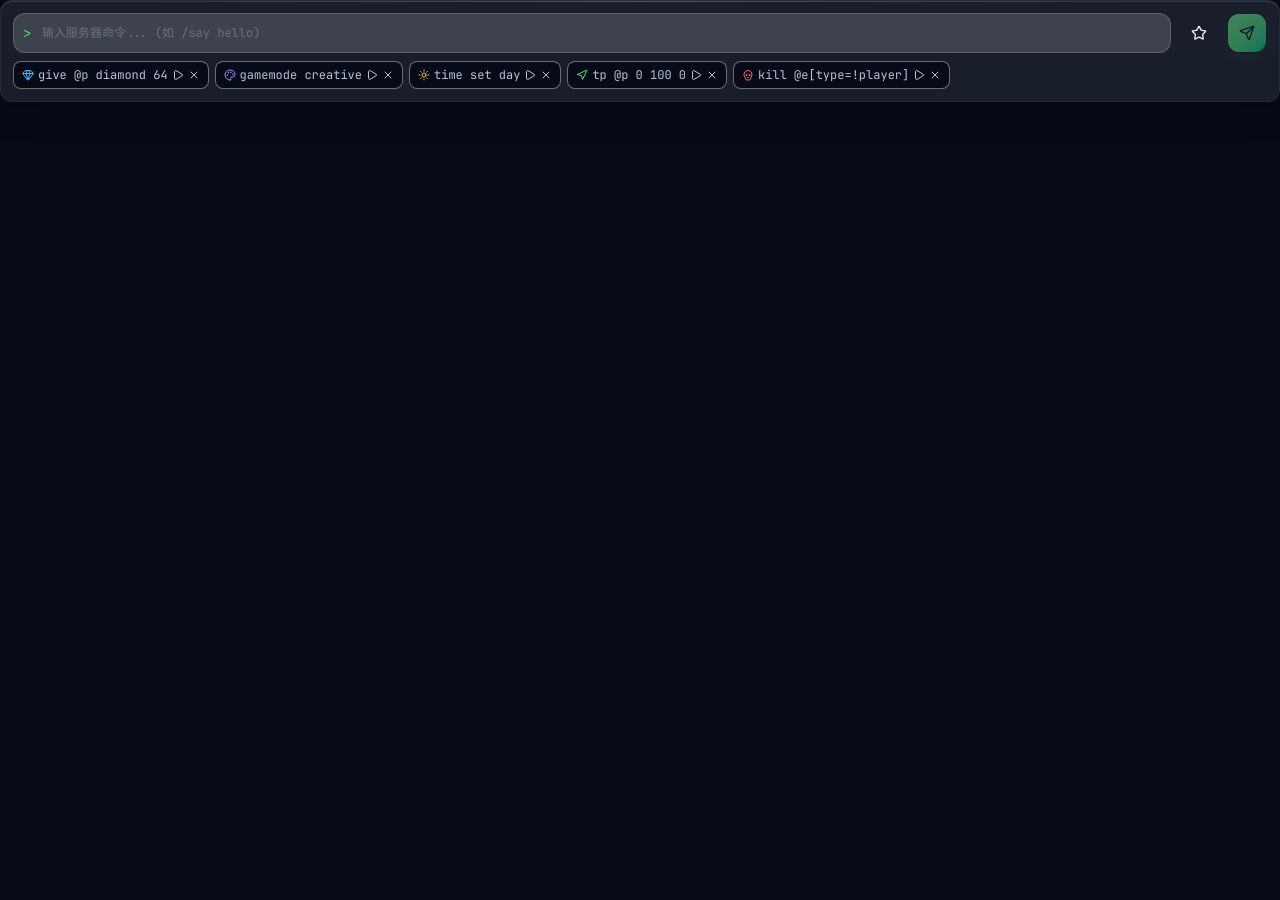
Test: CommandInput › 删除快捷指令：经二次确认后移除并写入面板偏好
Click the button named "删除 give @p diamond 64" at {"x": 194, "y": 75}, box [184,65,204,85]
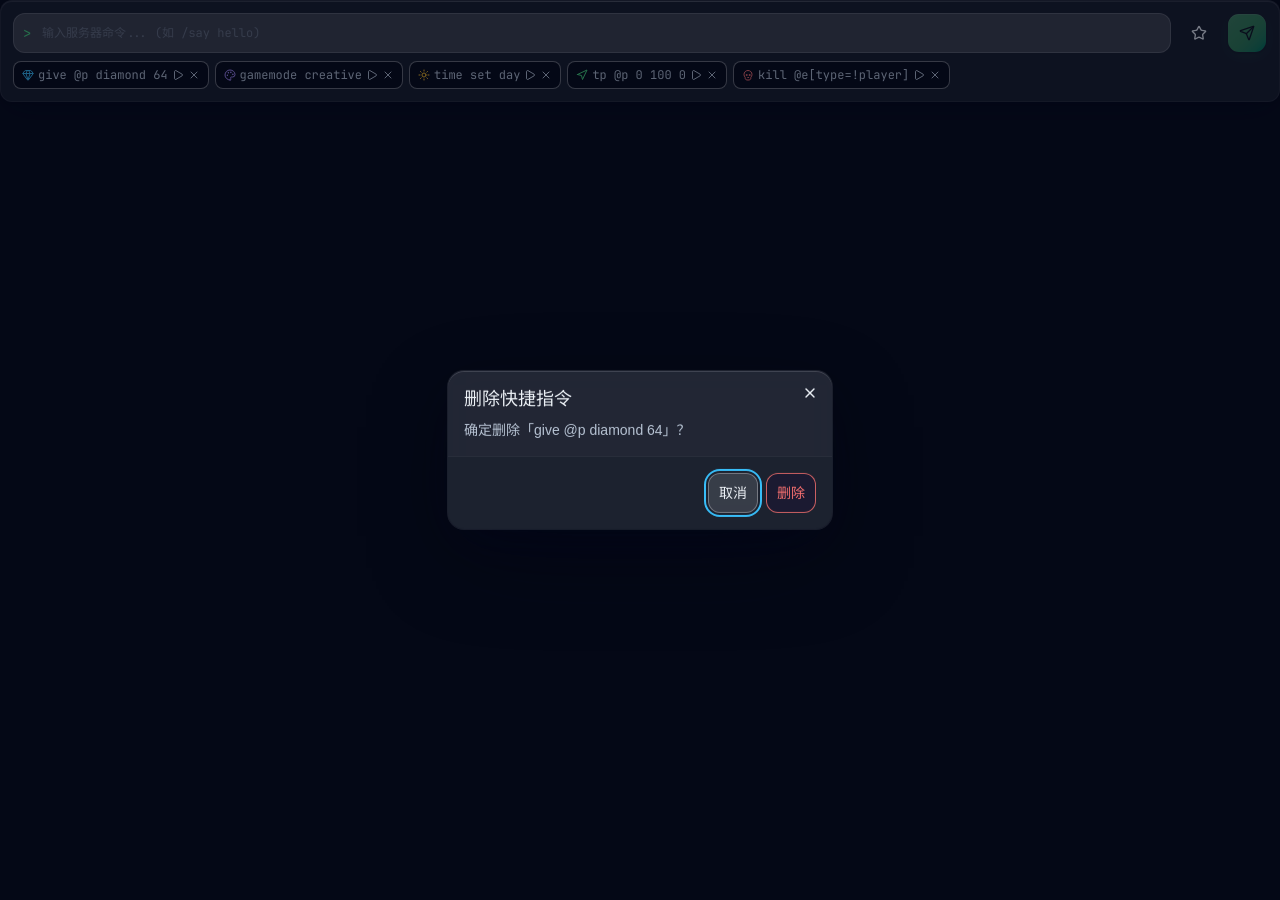
Expected: the button "give @p diamond 64" is shown, [38,66,168,84]
Click the button "删除" at {"x": 791, "y": 493}, box [766,473,816,513]
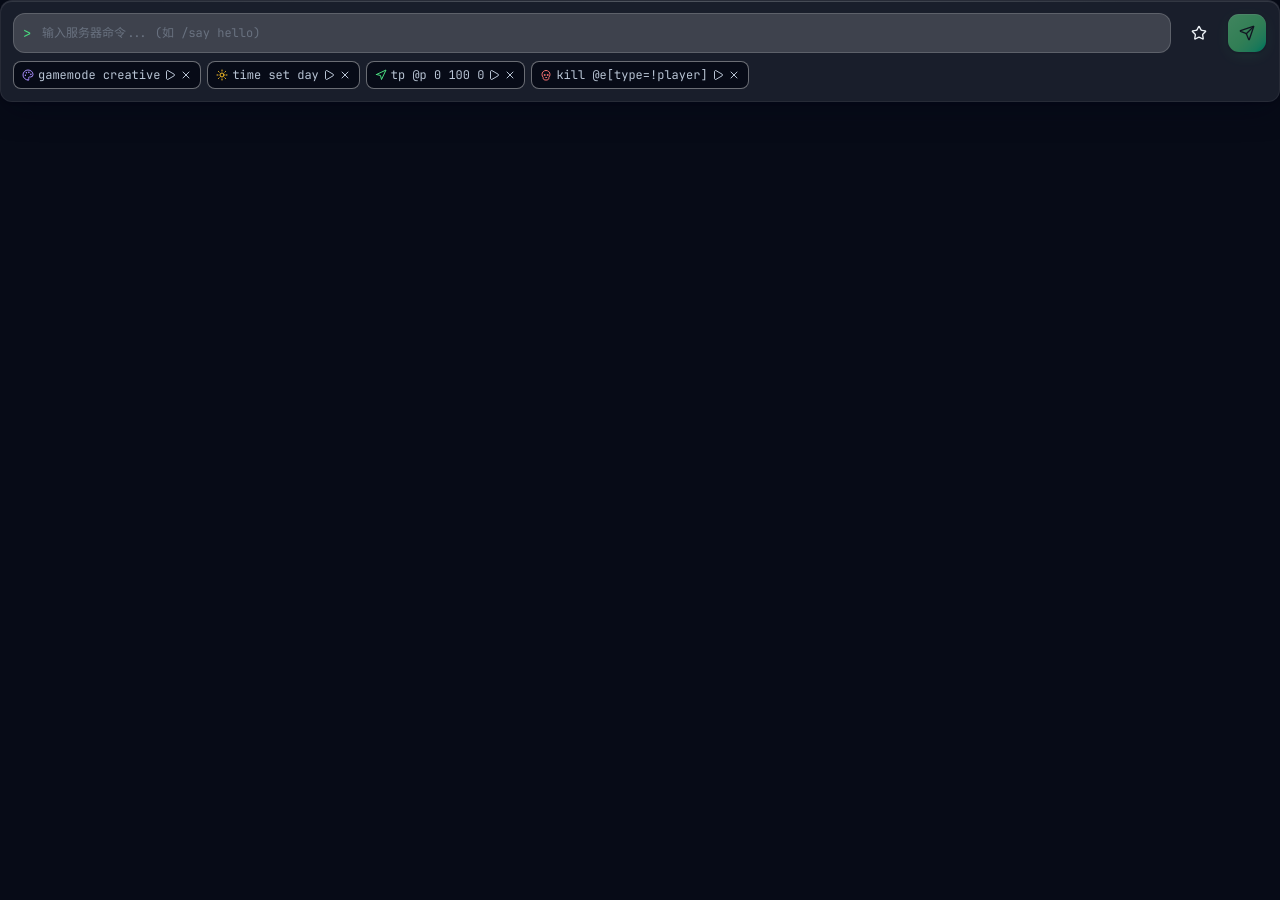
Result: the button "give @p diamond 64" is gone
Result: the button "give @p diamond 64" no longer shows "give @p diamond 64"
